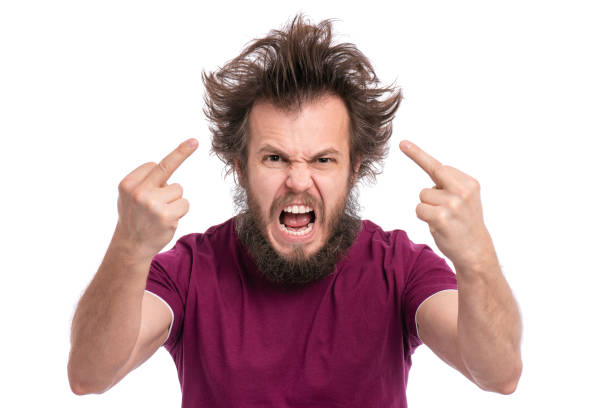insulting_gesture: (397, 140, 489, 255), (115, 136, 204, 248)
